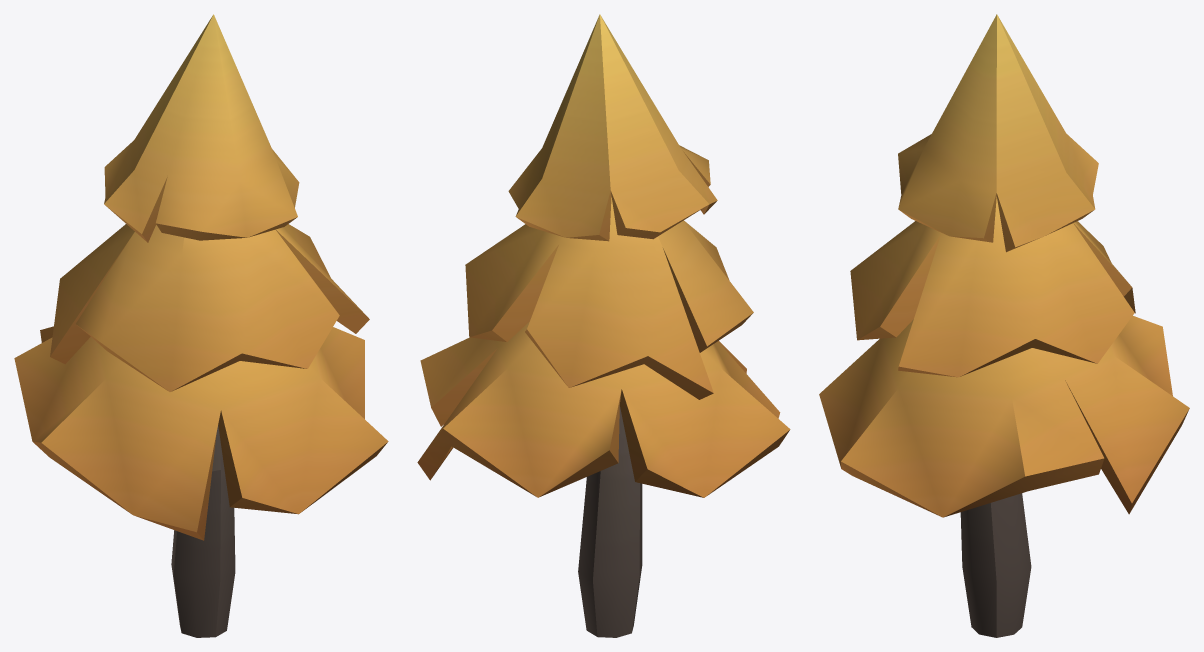
Rendered from pine_small.glb.
3 renders of one model, left to right at view 1: azimuth 30°, elevation 25°; view 2: azimuth 150°, elevation 25°; view 3: azimuth 270°, elevation 25°, orthographic.
Parts seen in each view (by area): view 1: tree_pine_yellow_small; view 2: tree_pine_yellow_small; view 3: tree_pine_yellow_small.
Boxes of the visible parts, x1,y1,x2,y2 form: tree_pine_yellow_small: (14, 14, 388, 637); tree_pine_yellow_small: (417, 14, 790, 637); tree_pine_yellow_small: (819, 14, 1189, 637).
Size of the model in its own units: 2.4 by 4.04 by 2.2.
Materials: 1 (1 with a texture image).
